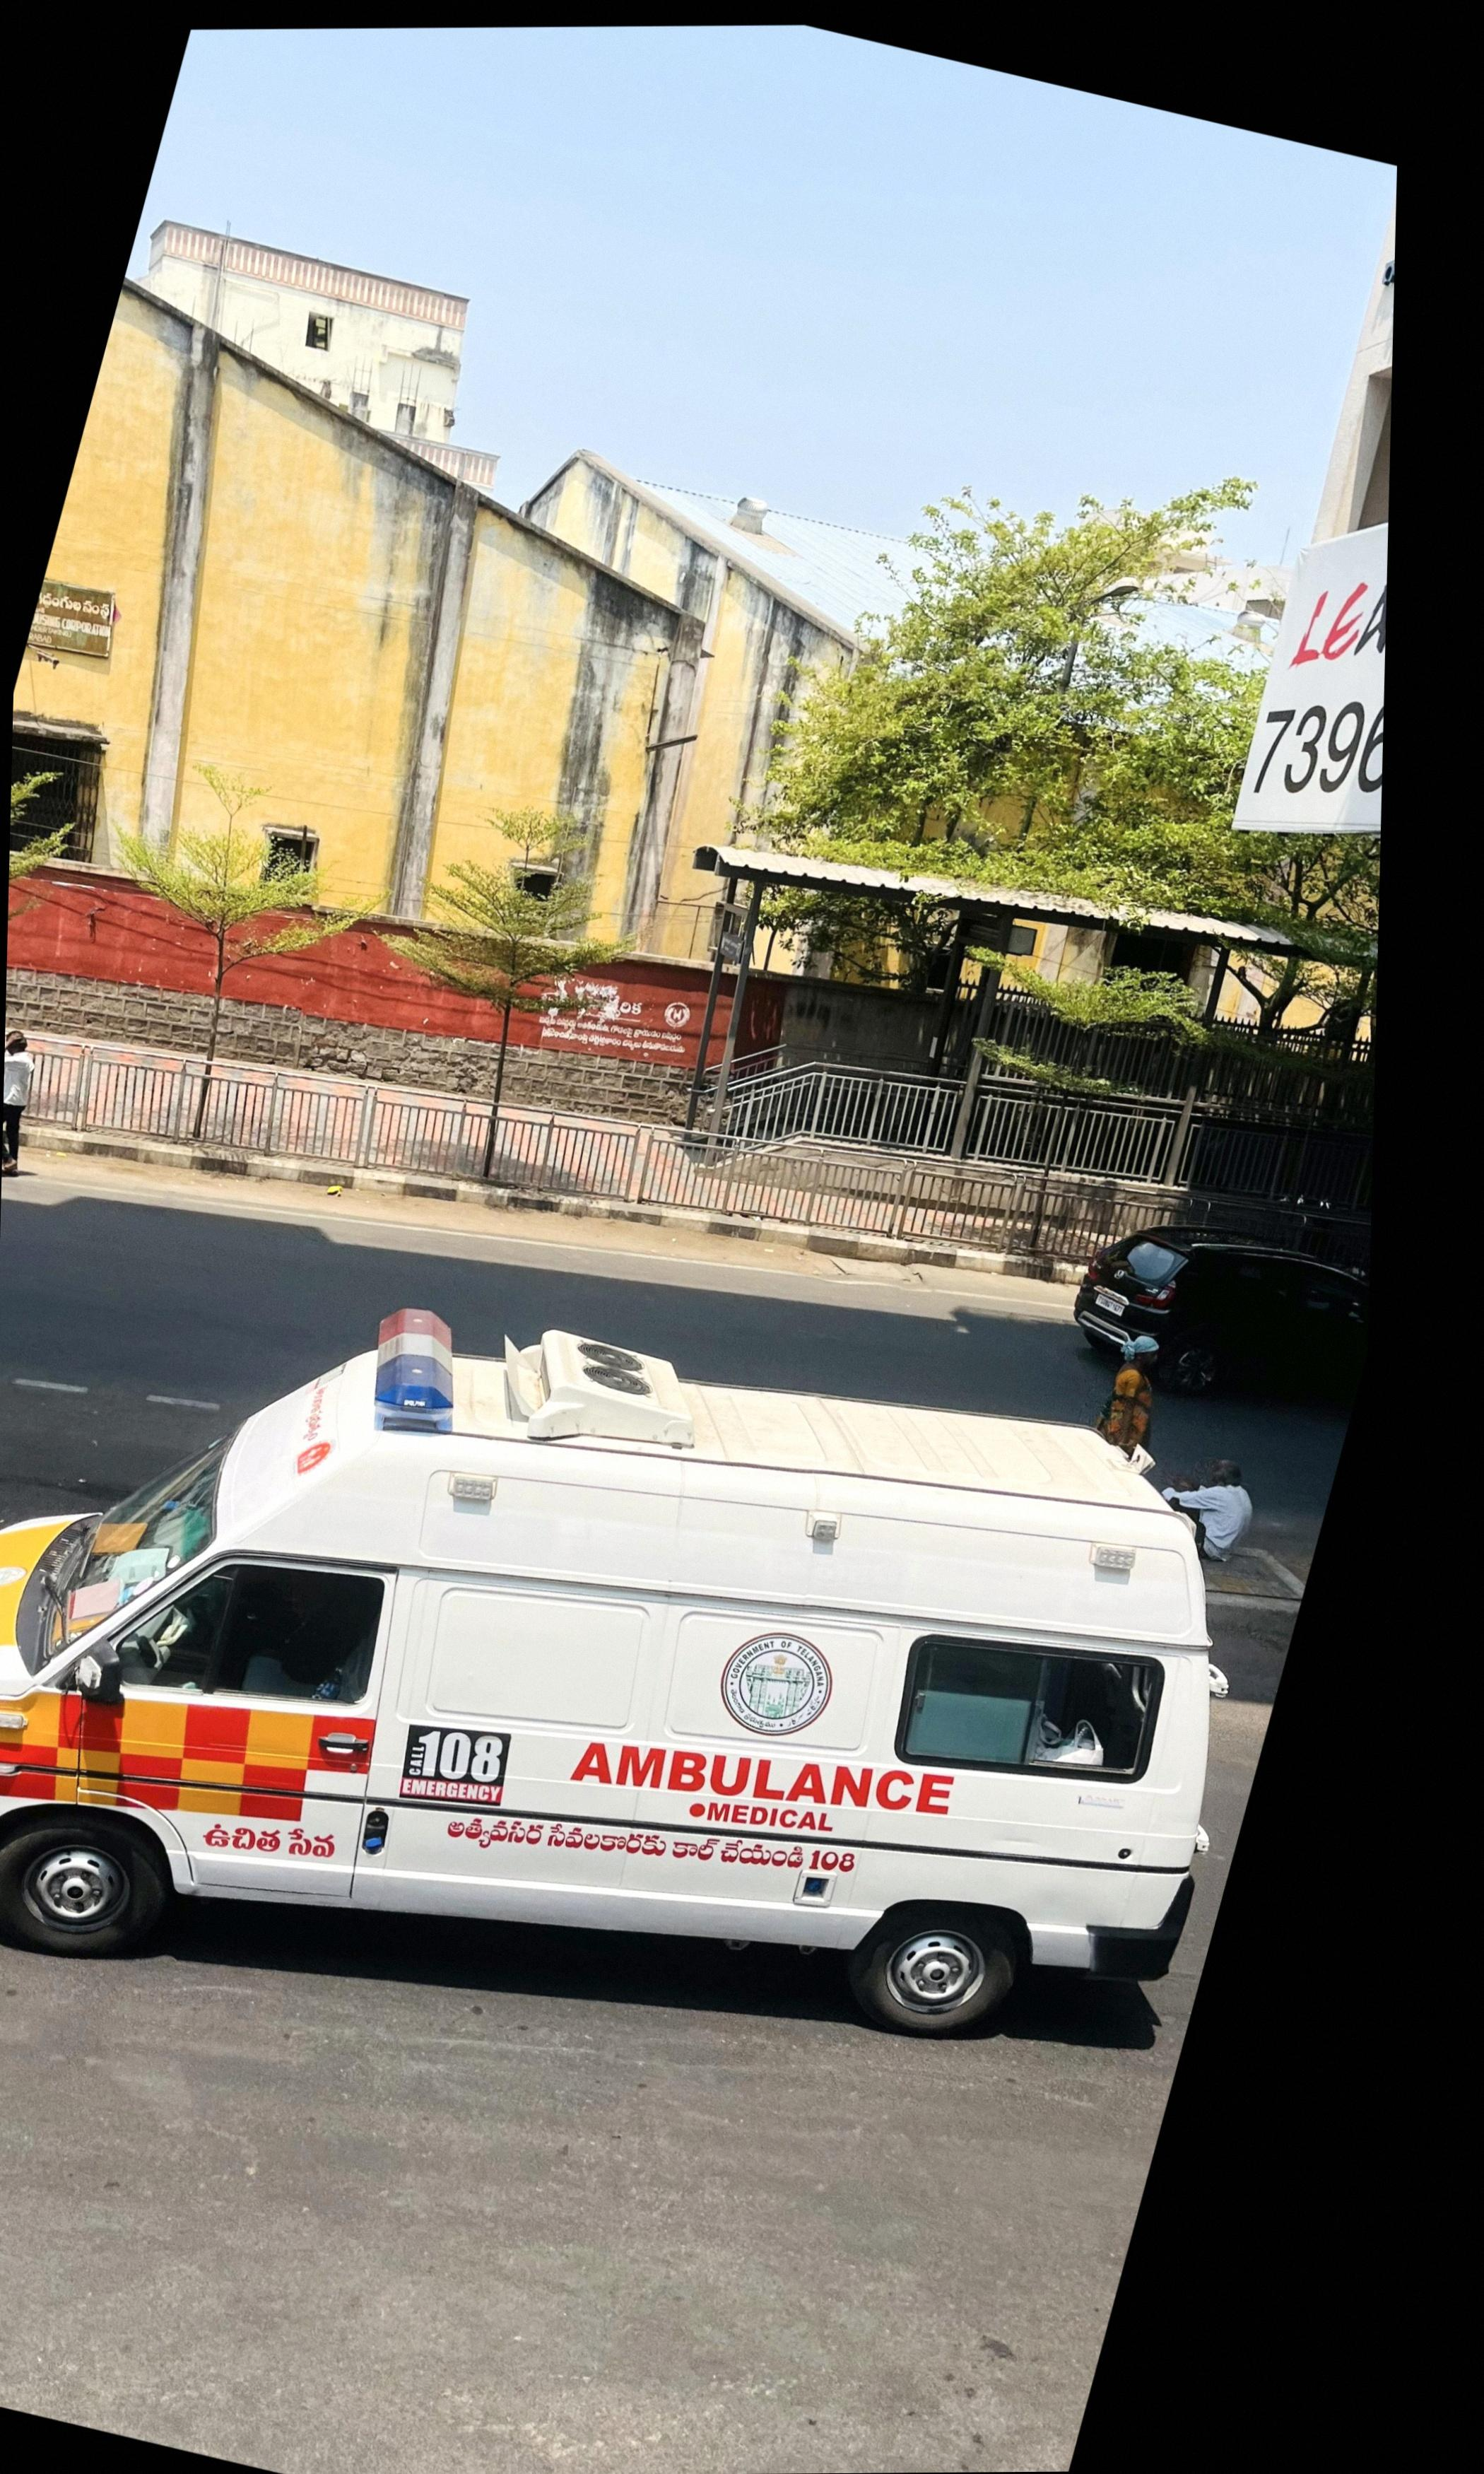ambulance: (0, 1311, 1253, 2041)
